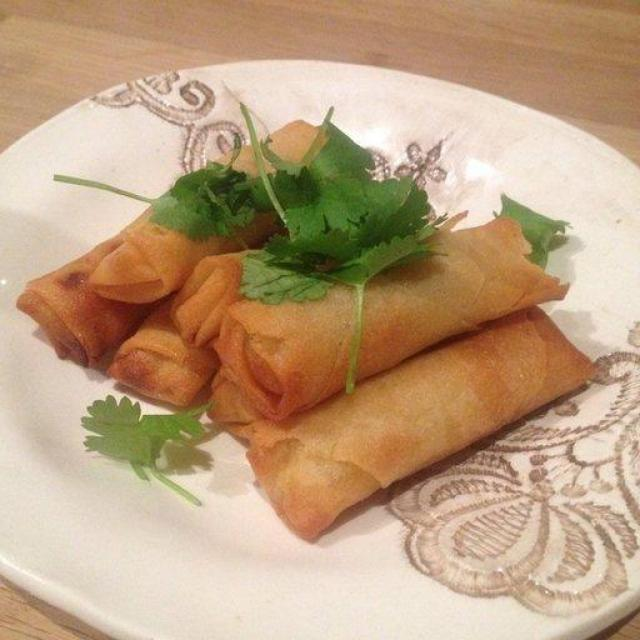food_waste: (7, 115, 621, 539)
